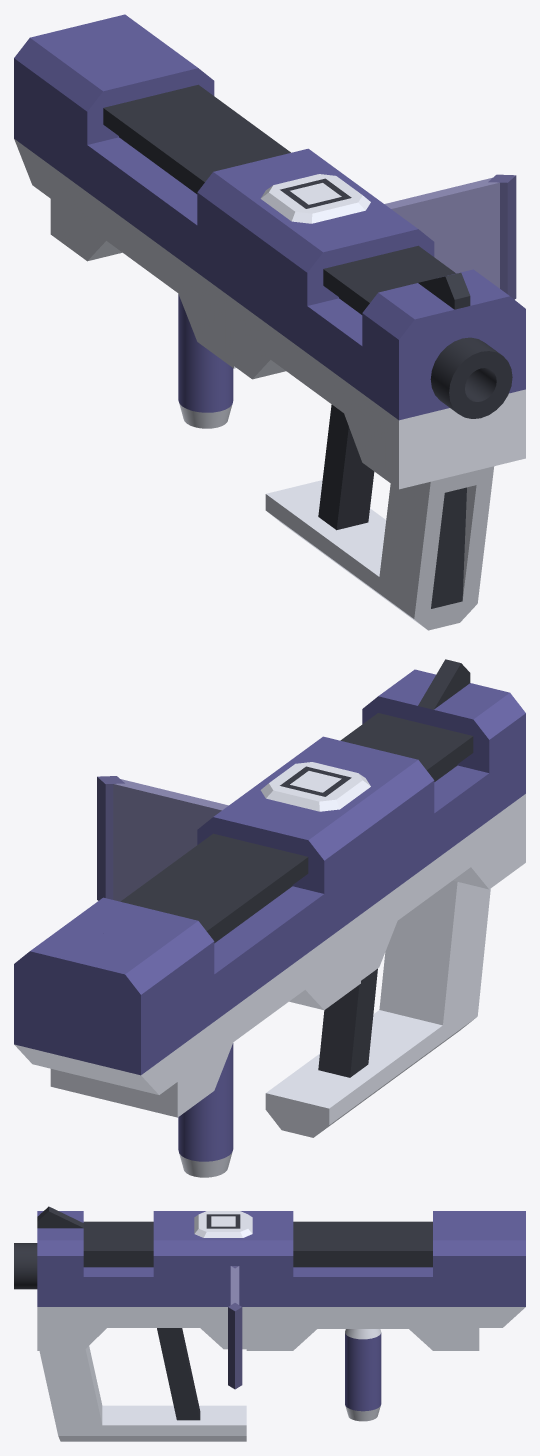
Rendered from Blaster.fbx.
3 renders of one model, top to bottom at view 1: azimuth 30°, elevation 25°; view 2: azimuth 150°, elevation 25°; view 3: azimuth 270°, elevation 25°, orthographic. The views are drawn at different scales.
Parts seen in each view (by area): view 1: mergedBlocks; view 2: mergedBlocks; view 3: mergedBlocks.
Boxes of the visible parts, x1,y1,x2,y2 form: mergedBlocks: (14,14,525,630); mergedBlocks: (14,659,525,1177); mergedBlocks: (14,1206,525,1441).
Bounding box in the file's own units: 8.6 × 10.8 × 22.
